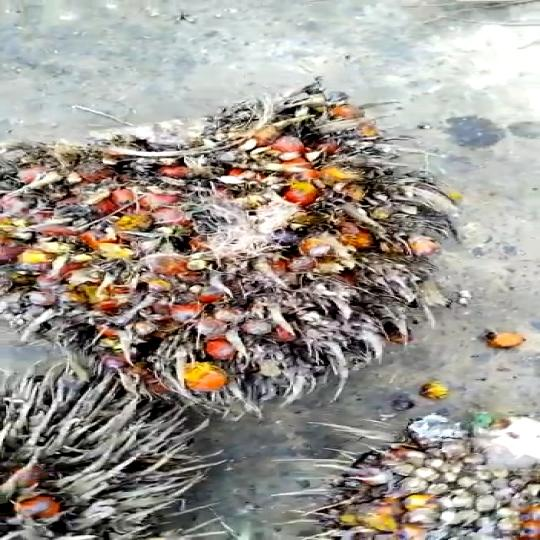terlalu masak: (0, 75, 540, 447)
